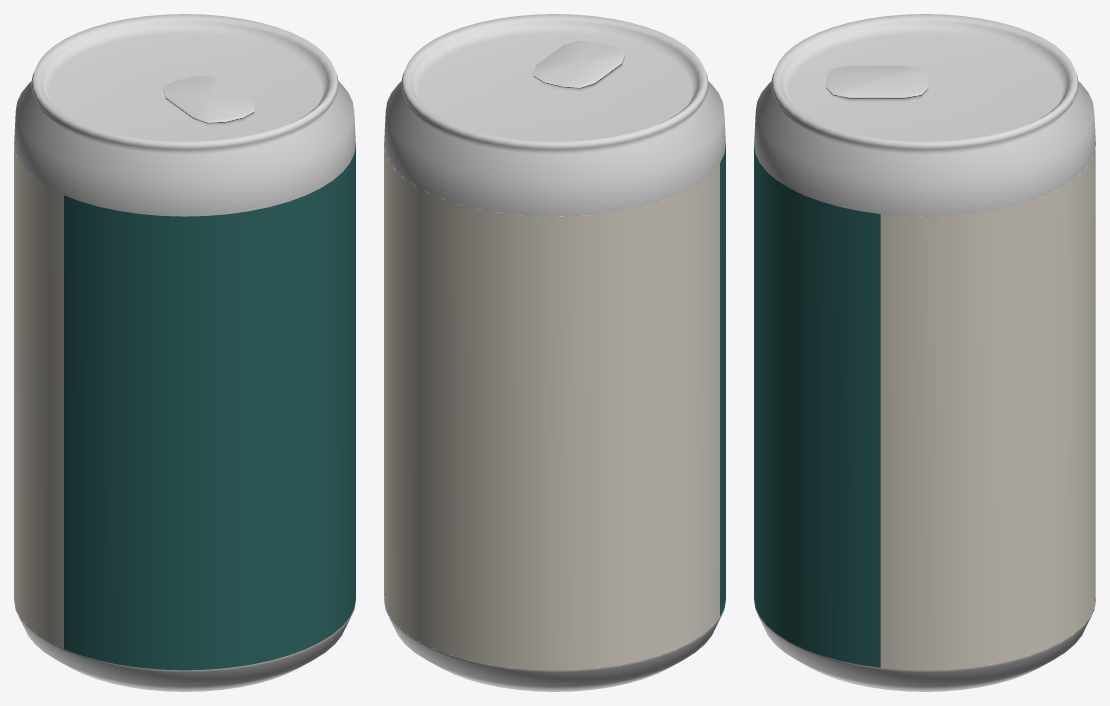
Rendered from can_classic.glb.
3 views of the same model, side by side, from view 1: azimuth 30°, elevation 25°; view 2: azimuth 150°, elevation 25°; view 3: azimuth 270°, elevation 25° (orthographic).
Parts seen in each view (by area): view 1: package_mesh; view 2: package_mesh; view 3: package_mesh.
Part boxes in pixels (x1,y1,x2,y2): package_mesh: (14,14,355,691); package_mesh: (384,14,725,691); package_mesh: (754,14,1095,691).
Bounding box in the file's own units: 0.28 × 0.5 × 0.28.
